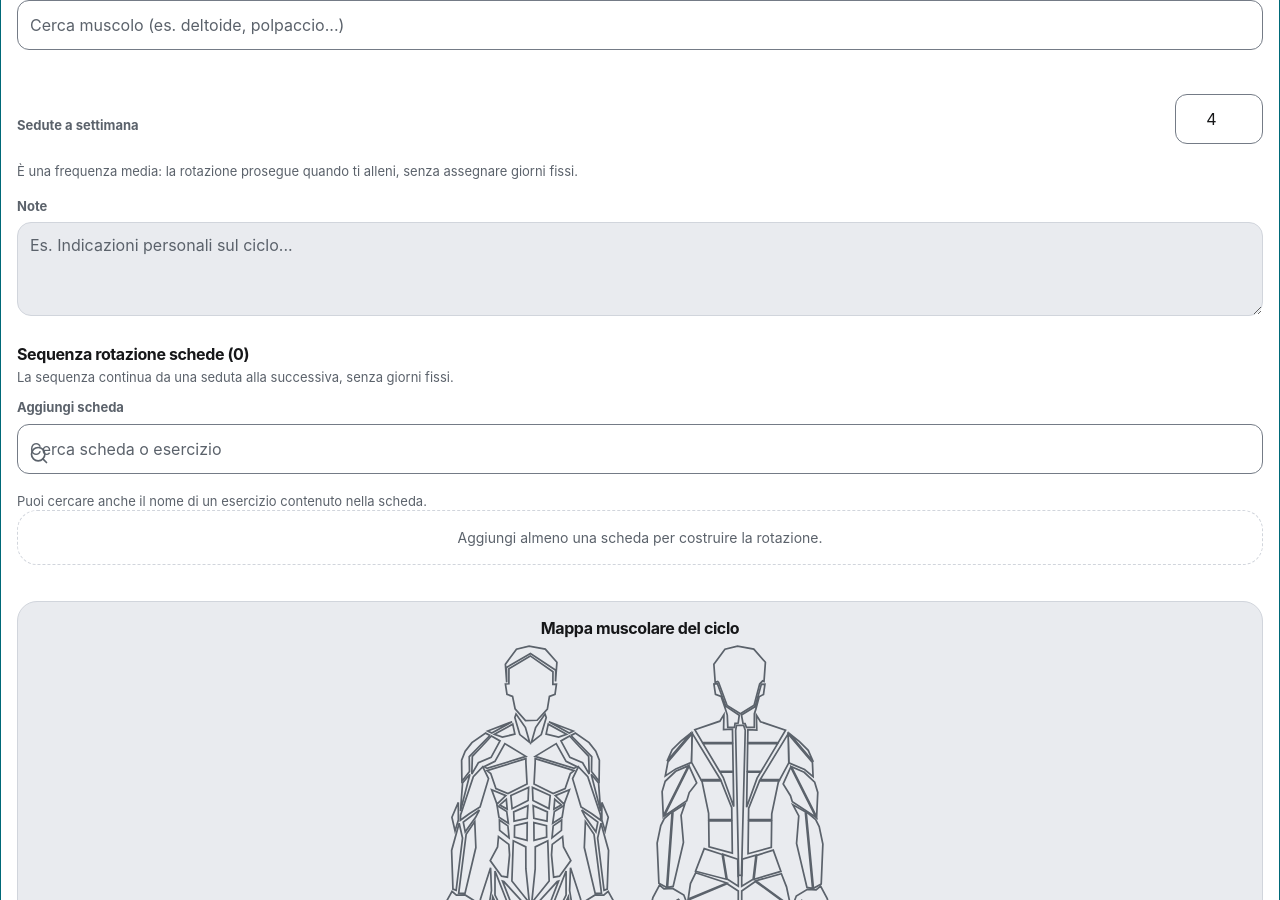
Test: Pianificazione redesign › trova una scheda anche cercando un esercizio e aggiunge l’intera scheda
(page scrolled)
Type "squat" into the dropdown named "Aggiungi scheda alla sequenza" at (640, 449), box 17,424 -> 1263,474
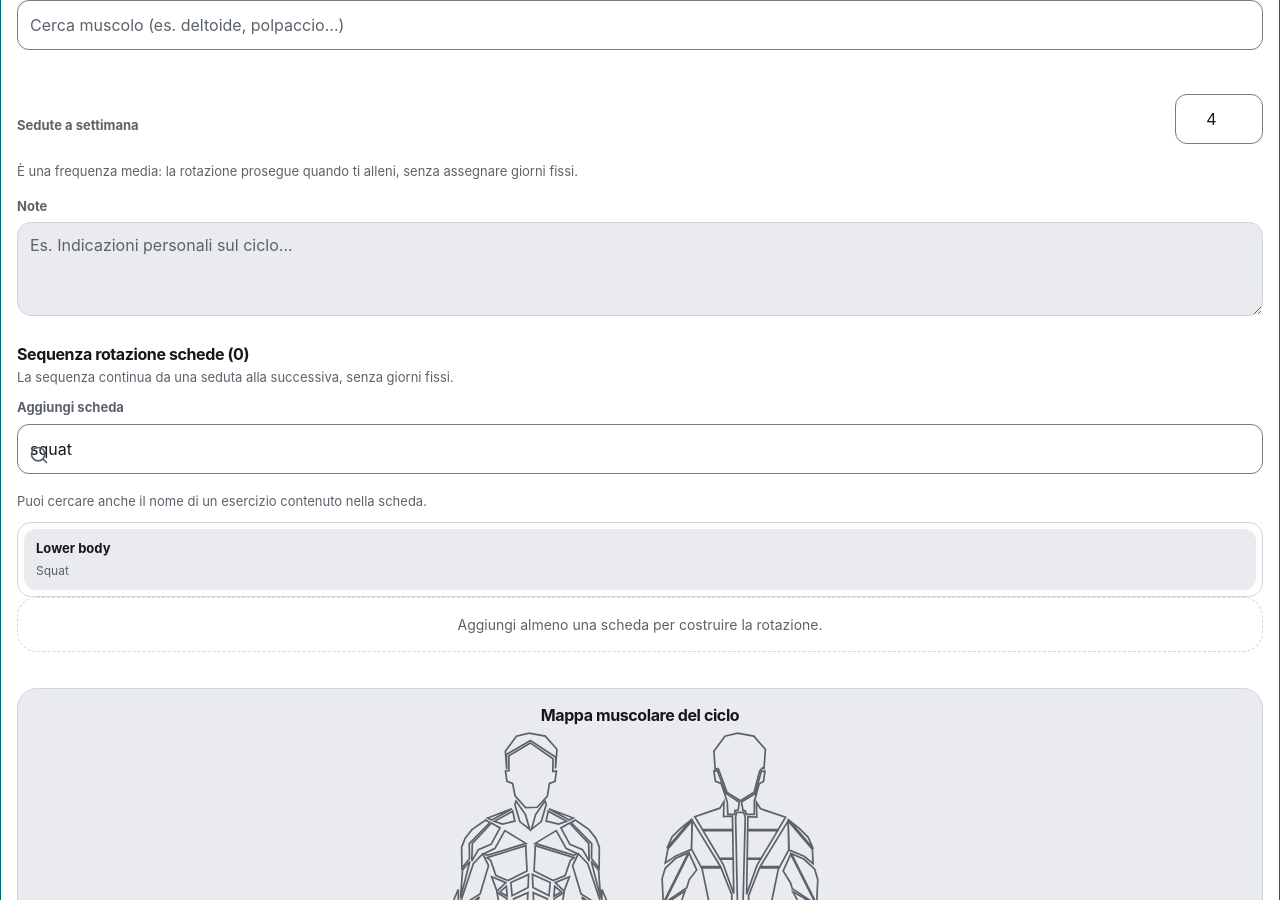
Now the option "Lower body Squat" is shown
Click the option "Lower body Squat" at (73, 548), box 24,529 -> 1256,590
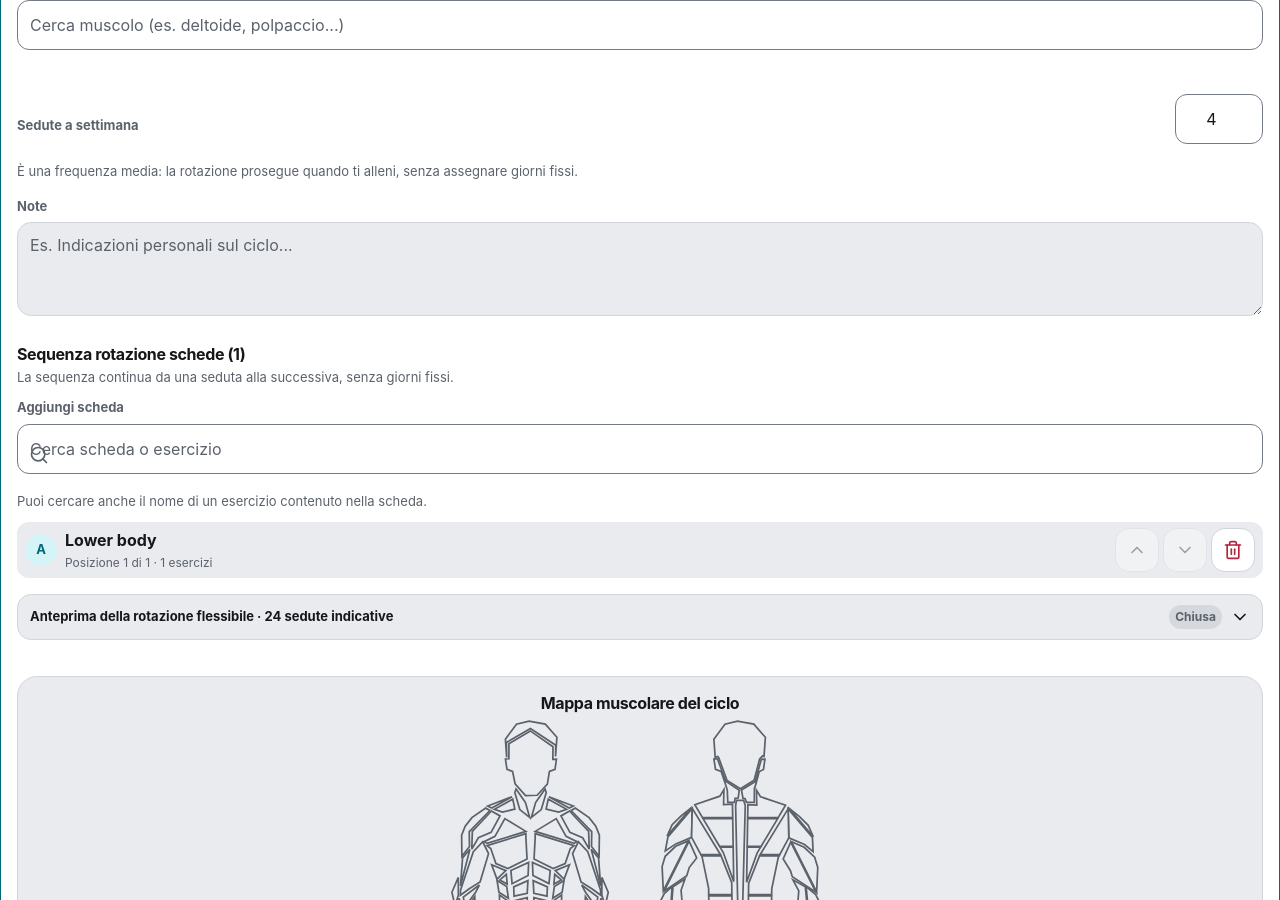
Now the text "Lower body" is shown, box 65,530 -> 157,550
Now the option "Squat" is gone
